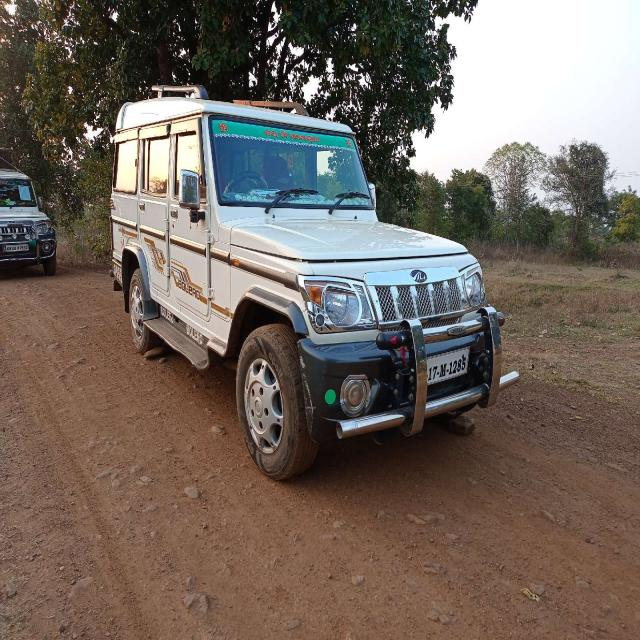light_vehicle: (106, 101, 506, 408)
